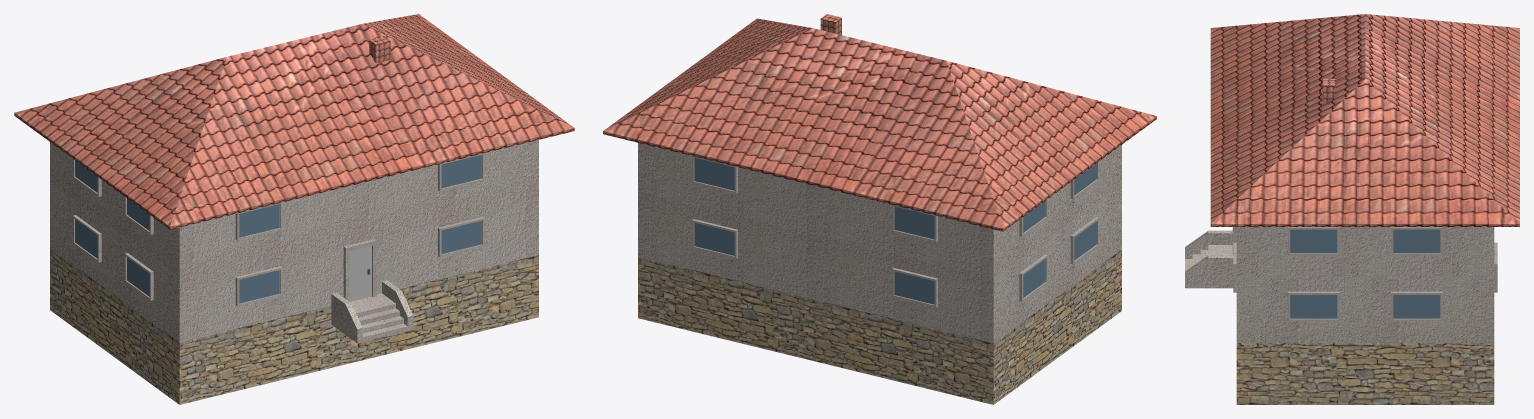
File: house.fbx
3 views of the same model, side by side, from view 1: azimuth 30°, elevation 25°; view 2: azimuth 150°, elevation 25°; view 3: azimuth 270°, elevation 25° (orthographic).
Visible parts, largest first — view 1: House; view 2: House; view 3: House.
Boxes of the visible parts, x1=… form: House: x1=14, y1=14, x2=574, y2=404; House: x1=603, y1=14, x2=1156, y2=404; House: x1=1185, y1=14, x2=1519, y2=404.
Size of the model in its own units: 1800 by 1300 by 1162.
